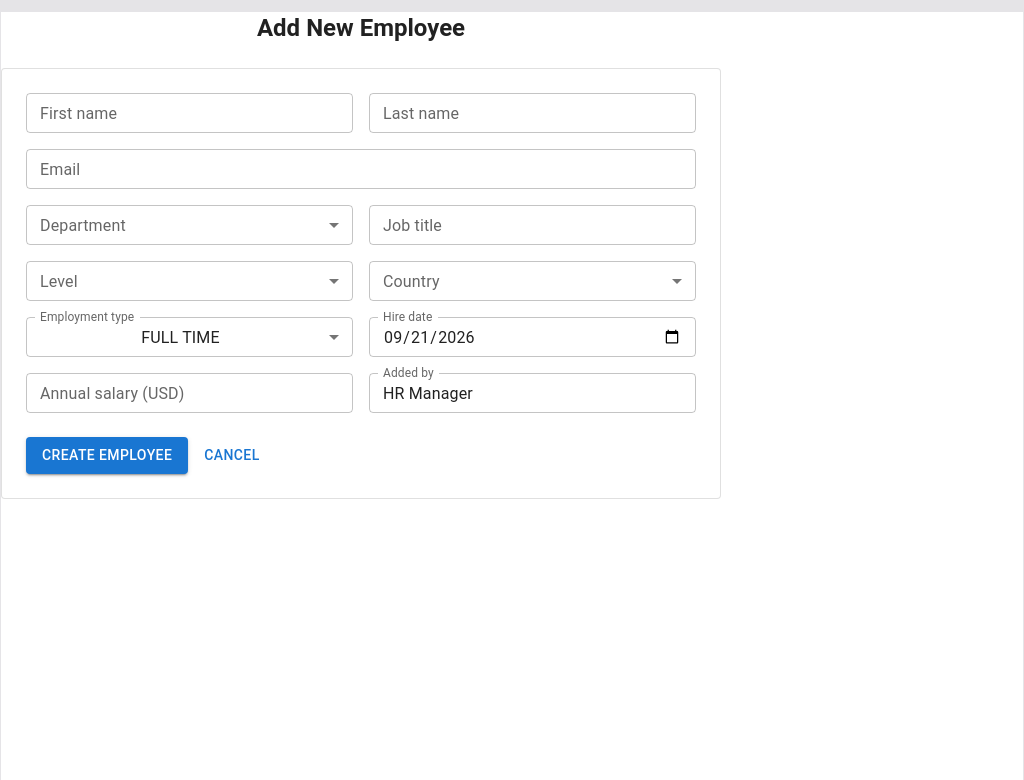
Test: NewEmployeePage › shows a validation error when department/level/country are missing
Expected: the field labelled "First name" is shown, [26,93,353,133]
Click the button "Create Employee". click: (107, 455)
box: [26,437,188,474]
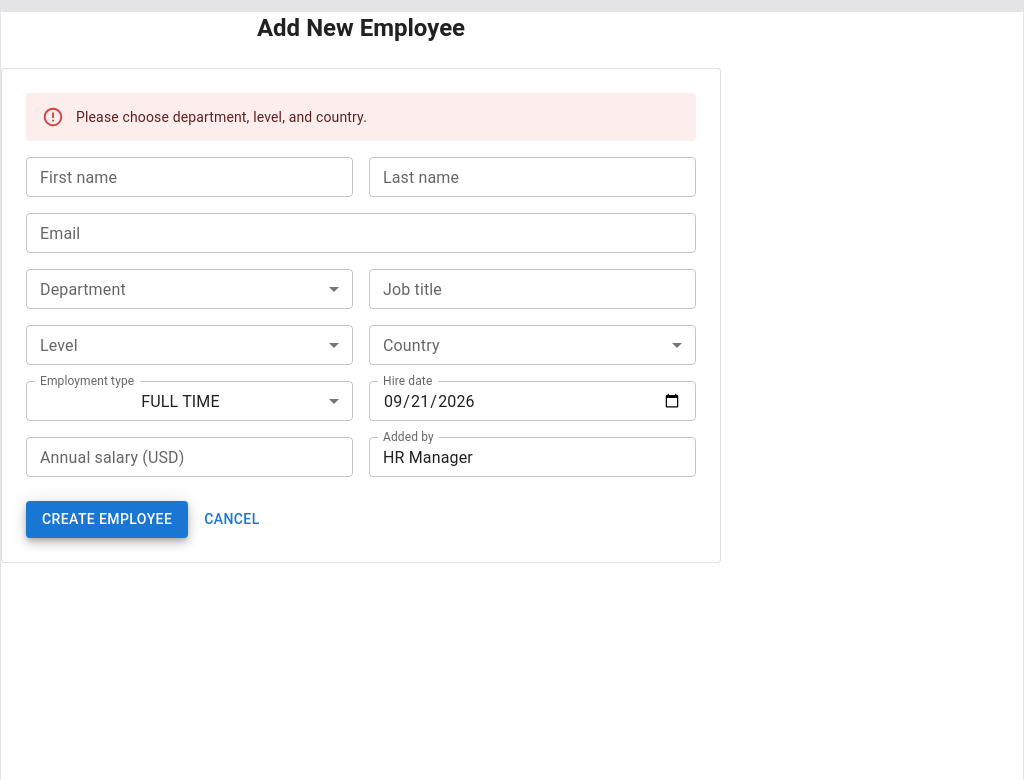
Result: the text "Please choose department, level, and country." is shown at [76,109,367,125]
